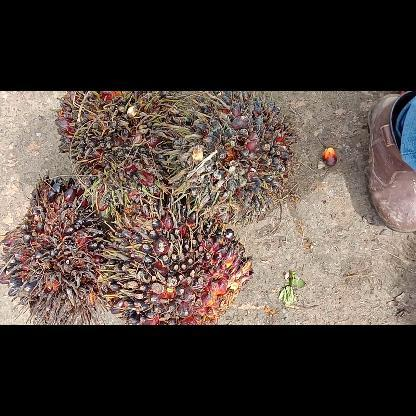TBS abnormal: (100, 198, 254, 324), (0, 178, 114, 324), (176, 92, 296, 218), (57, 91, 185, 199)
